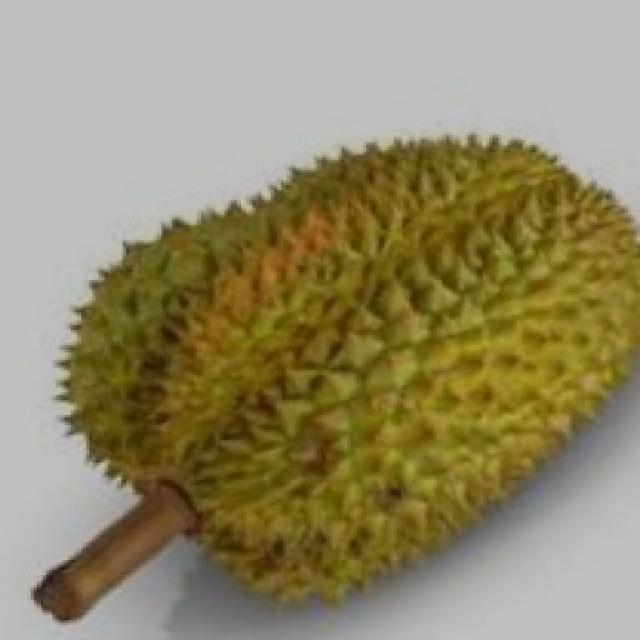fruit: (261, 215, 640, 632), (12, 225, 378, 633)
